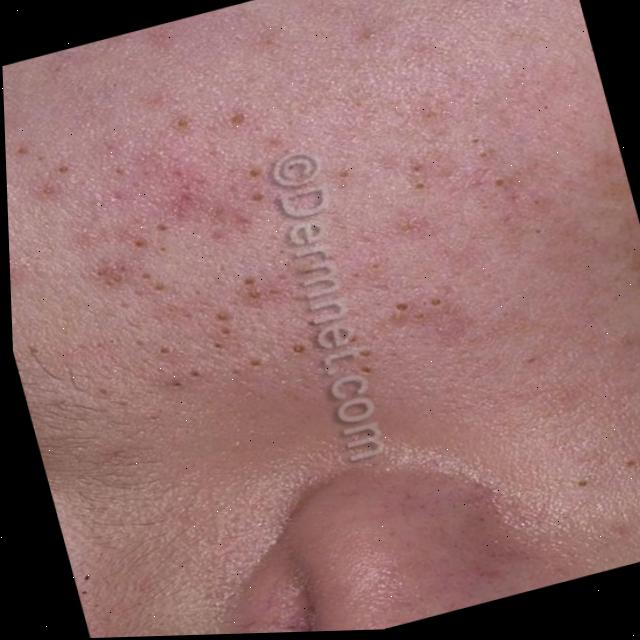Rosacea: (11, 0, 537, 391)
